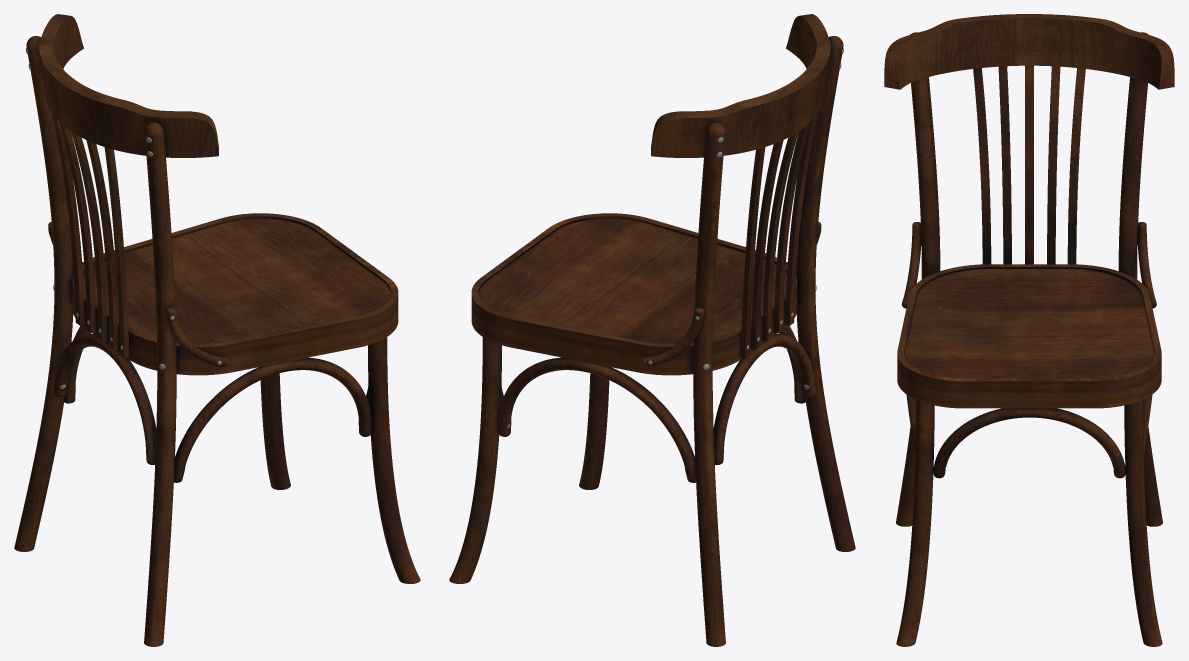
File: L2_B1_Chair.fbx
3 renders of one model, left to right at view 1: azimuth 30°, elevation 25°; view 2: azimuth 150°, elevation 25°; view 3: azimuth 270°, elevation 25°, orthographic. The views are drawn at different scales.
Parts seen in each view (by area): view 1: L2_B1_Chair; view 2: L2_B1_Chair; view 3: L2_B1_Chair.
Boxes of the visible parts, x1,y1,x2,y2 form: L2_B1_Chair: (14,14,420,646); L2_B1_Chair: (449,14,855,646); L2_B1_Chair: (884,14,1174,646).
Size of the model in its own units: 0.5962 by 1.01 by 0.5338.
Materials: 1 (1 with a texture image).
